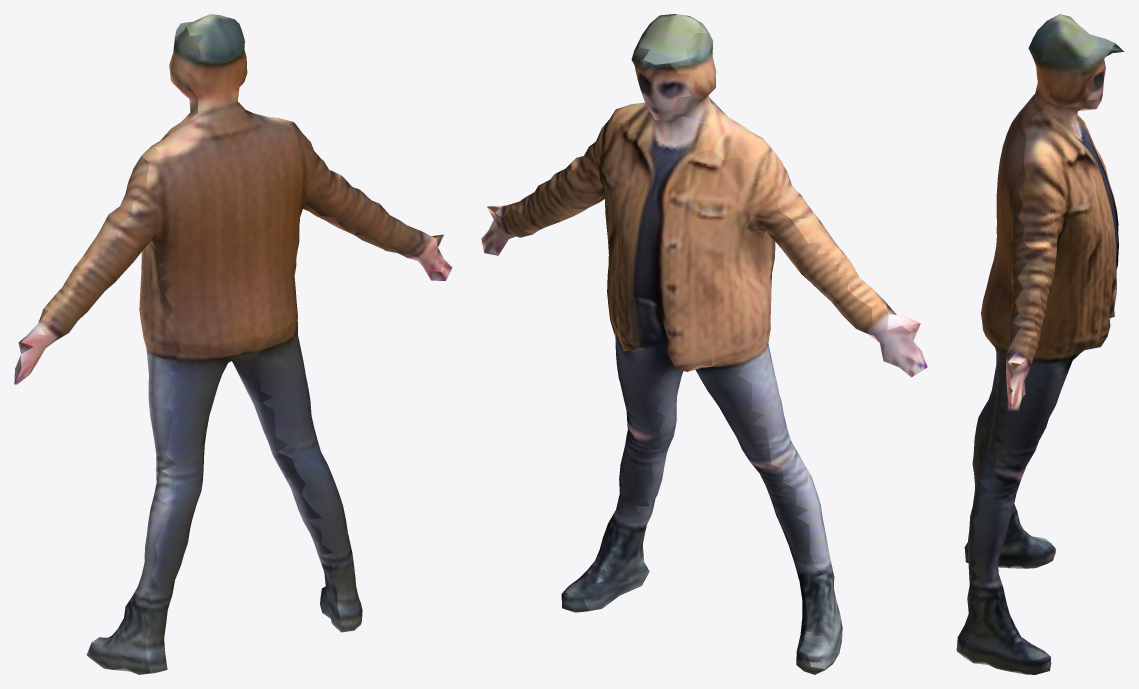
The picture shows the model from 3 angles, left to right: view 1: azimuth 30°, elevation 25°; view 2: azimuth 150°, elevation 25°; view 3: azimuth 270°, elevation 25°; orthographic projection. The views are drawn at different scales.
Parts seen in each view (by area): view 1: world; view 2: world; view 3: world.
Boxes of the visible parts, <box> form: world: <box>14,14,452,674</box>; world: <box>481,14,927,674</box>; world: <box>956,14,1123,674</box>.
Bounding box in the file's own units: 0.741 × 0.9967 × 0.2518.
1 material, 1 textured.
